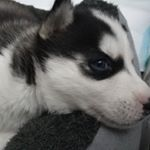puppy: (28, 1, 149, 138)
